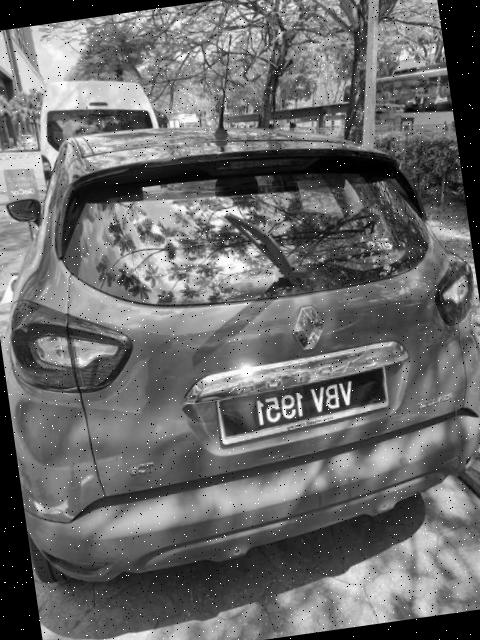License_Plate: (214, 366, 394, 447)
car: (1, 84, 480, 594)
